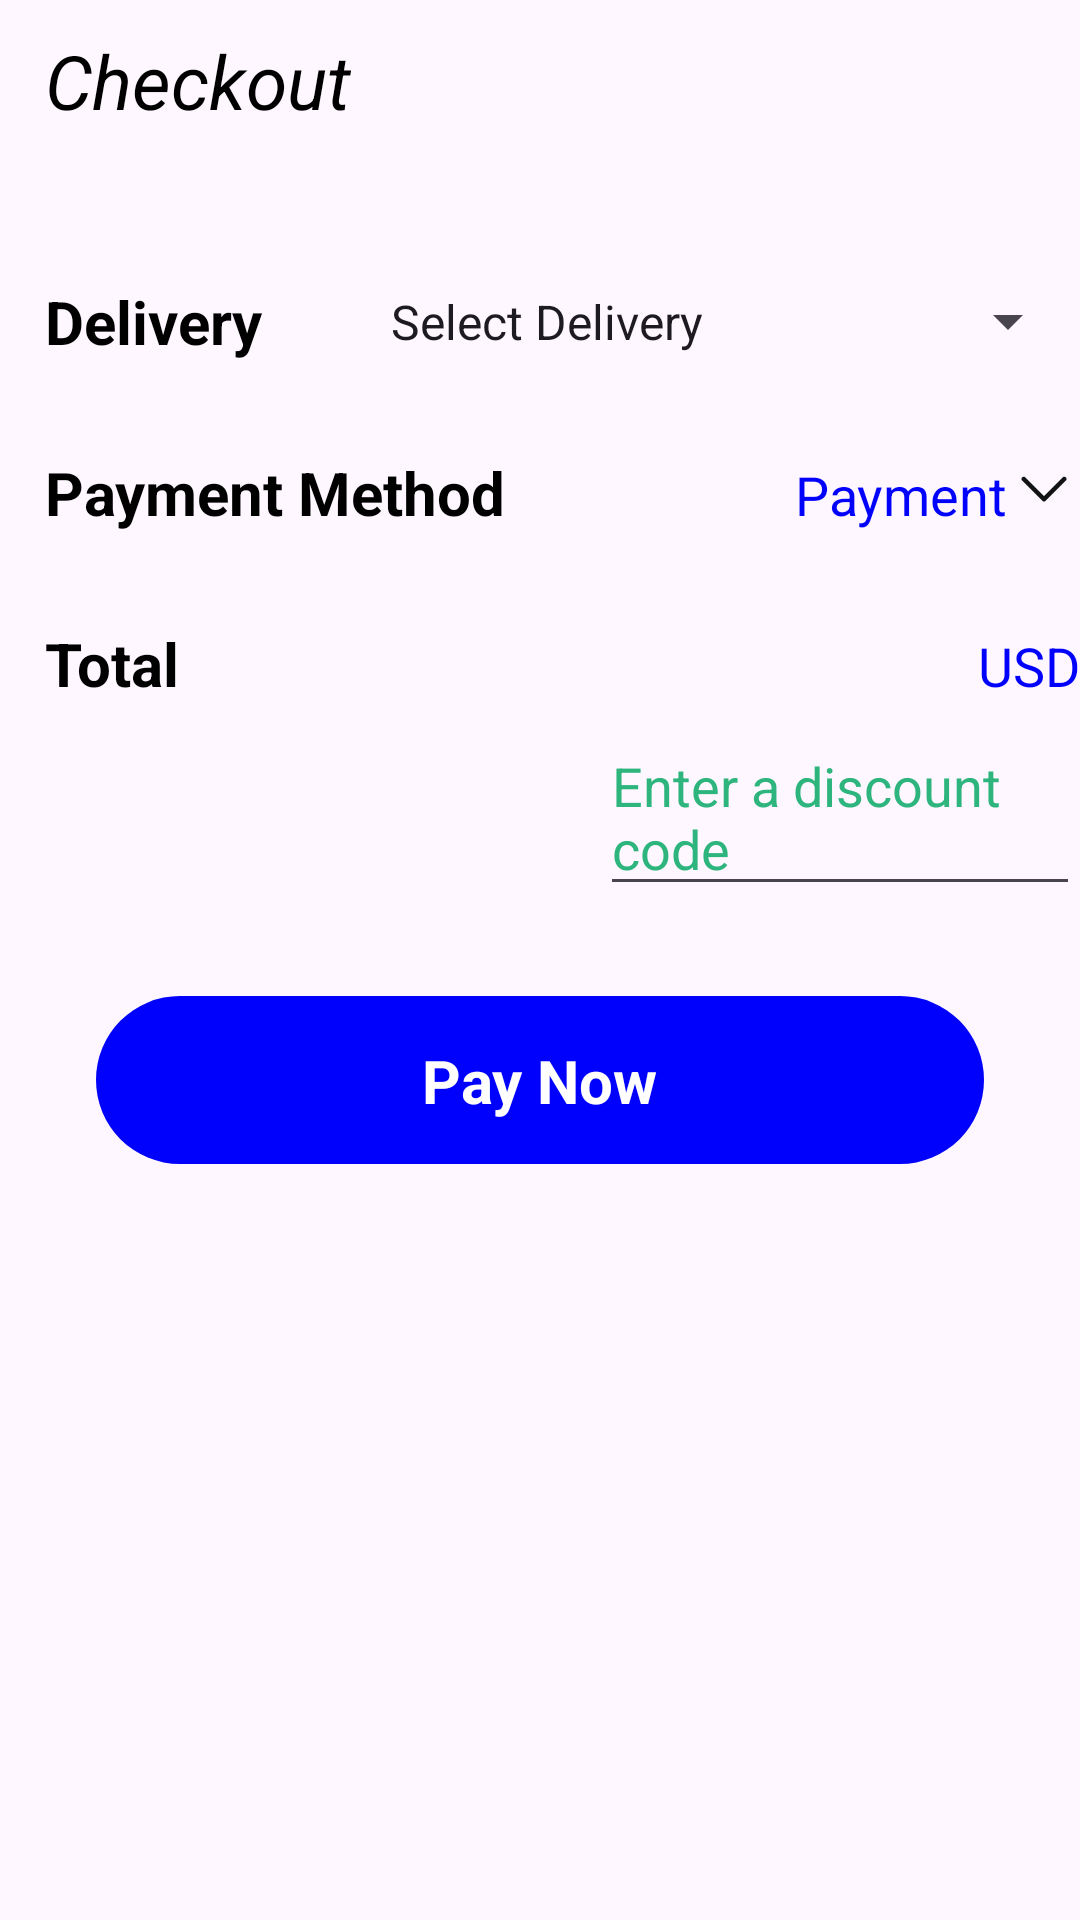

Screen size 1080px×1920px. Icon name, then its box in pixels as (x1, y1, x2, y2):
arrow down: (1021, 476, 1067, 502)
